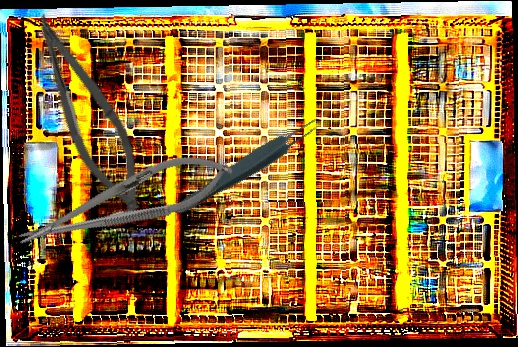Micro Scissor: (9, 4, 163, 223)
Needle Holder: (10, 140, 240, 264)
Tissue Forceps: (169, 112, 326, 222)
